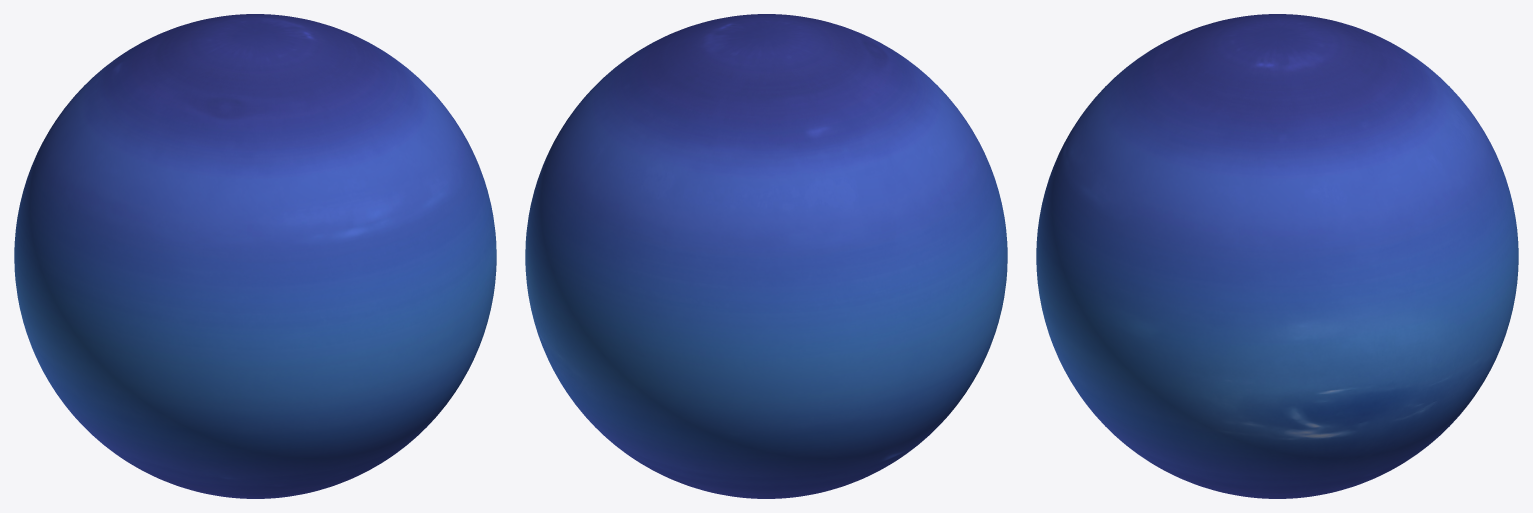
The model's file is neptune.glb.
3 views of the same model, side by side, from view 1: azimuth 30°, elevation 25°; view 2: azimuth 150°, elevation 25°; view 3: azimuth 270°, elevation 25° (orthographic).
Parts seen in each view (by area): view 1: Neptune; view 2: Neptune; view 3: Neptune.
Boxes of the visible parts, box(x1,y1,x2,y2) form: Neptune: box(14, 14, 496, 498); Neptune: box(525, 14, 1007, 498); Neptune: box(1036, 14, 1518, 498).
Size of the model in its own units: 0.4936 by 0.4988 by 0.4936.
Materials: 1 (1 with a texture image).
